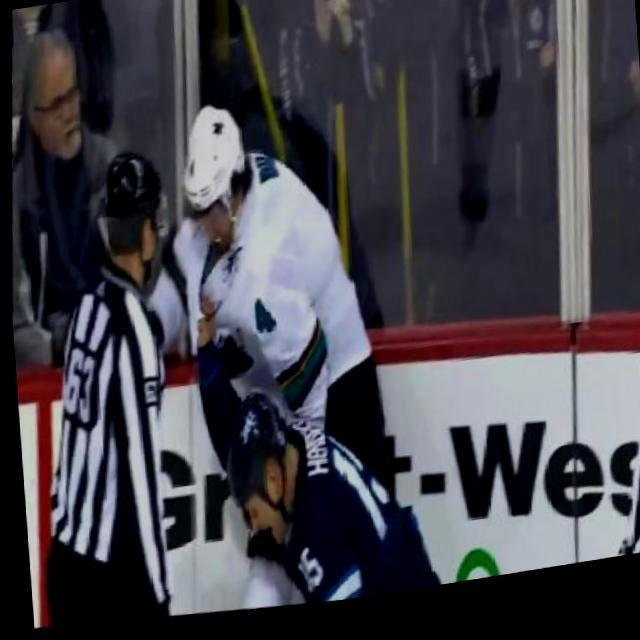fight: (130, 75, 460, 628)
